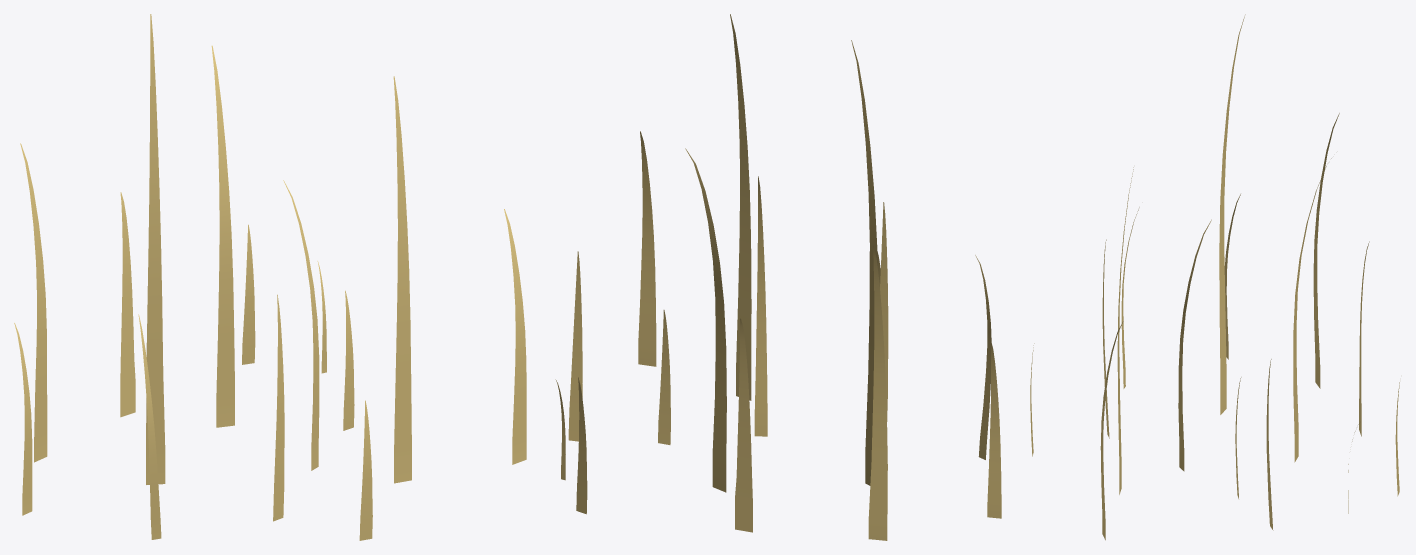
The model's file is grass 2.fbx.
3 views of the same model, side by side, from view 1: azimuth 30°, elevation 25°; view 2: azimuth 150°, elevation 25°; view 3: azimuth 270°, elevation 25° (orthographic). The views are drawn at different scales.
Visible parts, largest first — view 1: pPlane17; view 2: pPlane17; view 3: pPlane17.
Part boxes in pixels (x1=…): pPlane17: x1=14, y1=14, x2=526, y2=540; pPlane17: x1=555, y1=14, x2=1001, y2=540; pPlane17: x1=1030, y1=14, x2=1399, y2=540.
Bounding box in the file's own units: 87.3 × 88.01 × 73.77.
Materials: 1 (1 with a texture image).
